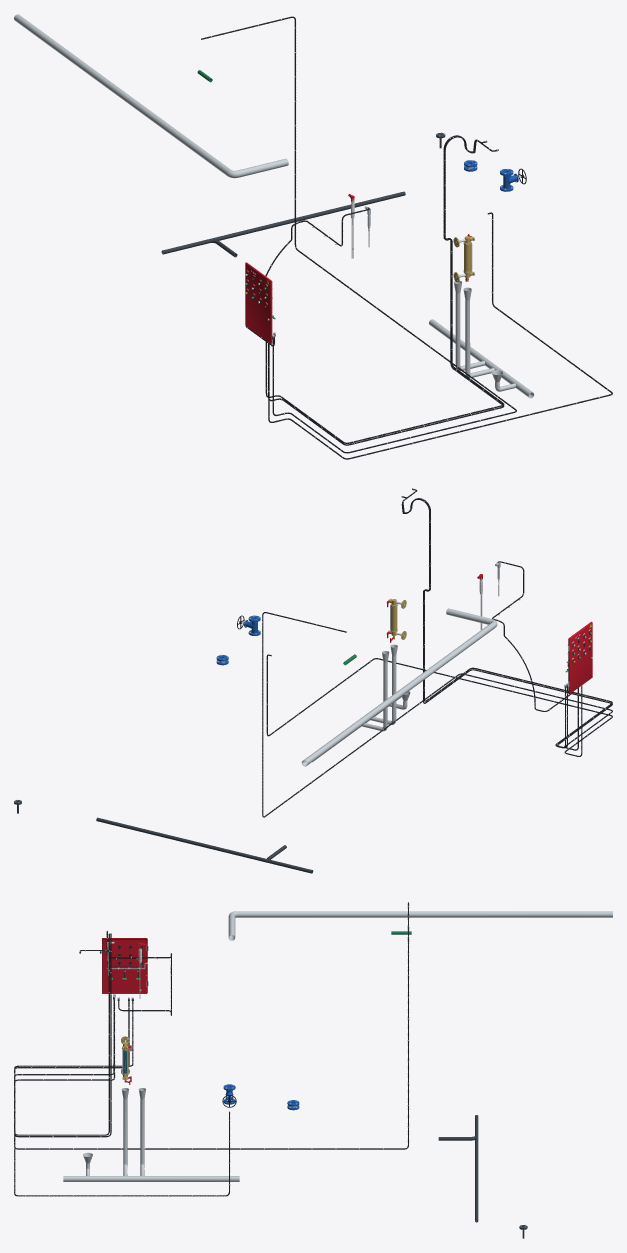
The model's file is s4000-4-Df8zwtIz.glb.
The picture shows the model from 3 angles, top to bottom: view 1: azimuth 30°, elevation 25°; view 2: azimuth 150°, elevation 25°; view 3: azimuth 270°, elevation 25°; orthographic projection. The views are drawn at different scales.
Visible parts, largest first — view 1: safety_vent_1 / steel, local_open_drains / steel, mod_eco_drive_cable / black, cabinet_door / cabinet_door_5.npz, wiring_pump_1 / black, wiring_pressure_switch_2 / black, wiring_pressure_switch_1 / black, bottom_discharge / dark; view 2: safety_vent_1 / steel, mod_eco_drive_cable / black, cabinet_door / cabinet_door_5.npz, local_open_drains / steel, wiring_pump_1 / black, bottom_discharge / dark, wiring_pressure_switch_1 / black, wiring_pressure_switch_2 / black; view 3: safety_vent_1 / steel, cabinet_door / cabinet_door_5.npz, local_open_drains / steel, mod_eco_drive_cable / black, wiring_pressure_switch_2 / black, wiring_pressure_switch_1 / black, wiring_pump_1 / black.
Boxes of the visible parts, x1=… form: safety_vent_1 / steel: x1=14, y1=14, x2=288, y2=178; local_open_drains / steel: x1=429, y1=281, x2=534, y2=398; mod_eco_drive_cable / black: x1=201, y1=16, x2=516, y2=453; cabinet_door / cabinet_door_5.npz: x1=245, y1=262, x2=272, y2=343; wiring_pump_1 / black: x1=268, y1=212, x2=612, y2=459; wiring_pressure_switch_2 / black: x1=265, y1=136, x2=504, y2=443; wiring_pressure_switch_1 / black: x1=268, y1=135, x2=504, y2=445; bottom_discharge / dark: x1=162, y1=191, x2=405, y2=254; safety_vent_1 / steel: x1=301, y1=608, x2=497, y2=766; mod_eco_drive_cable / black: x1=262, y1=612, x2=612, y2=817; cabinet_door / cabinet_door_5.npz: x1=568, y1=621, x2=592, y2=694; local_open_drains / steel: x1=312, y1=644, x2=410, y2=762; wiring_pump_1 / black: x1=266, y1=654, x2=612, y2=756; bottom_discharge / dark: x1=96, y1=817, x2=313, y2=873; wiring_pressure_switch_1 / black: x1=401, y1=489, x2=612, y2=748; wiring_pressure_switch_2 / black: x1=403, y1=496, x2=612, y2=748; safety_vent_1 / steel: x1=228, y1=911, x2=612, y2=940; cabinet_door / cabinet_door_5.npz: x1=102, y1=938, x2=148, y2=993; local_open_drains / steel: x1=63, y1=1088, x2=239, y2=1181; mod_eco_drive_cable / black: x1=14, y1=902, x2=409, y2=1149; wiring_pressure_switch_2 / black: x1=14, y1=933, x2=133, y2=1135; wiring_pressure_switch_1 / black: x1=14, y1=933, x2=129, y2=1137; wiring_pump_1 / black: x1=14, y1=1000, x2=229, y2=1196.
Size of the model in its own units: 4.97 by 2.92 by 7.03.
